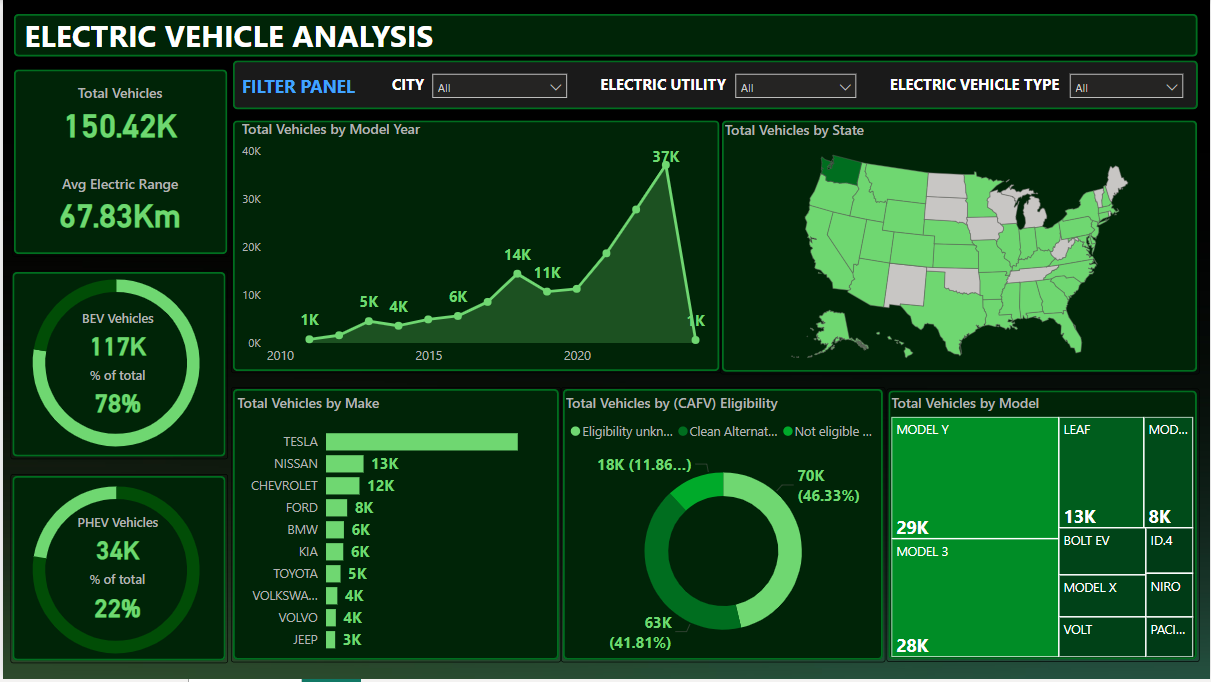

Layout of this report page (visuals, bound fields, positions):
{"tool":"powerbi","page":{"name":"Page 1","canvas":[1280,720],"ordinal":0},"visuals":[{"type":"shape","box":[9.7,12.9,1259.6,49.9],"z":0},{"type":"textbox","box":[17.7,9.7,476.8,61.2],"z":1000},{"type":"shape","box":[10.1,70.9,230.9,200.5],"z":2000},{"type":"card","title":"Total Vehicles","fields":{"Values":["Electric_Vehicle_Population_Data.Total Vehicles"]},"box":[24.3,87.1,200.5,64.8],"z":3000},{"type":"card","title":"Avg Electric Range","fields":{"Values":["Electric_Vehicle_Population_Data.Avg Range"]},"box":[23.8,184.7,200.5,63.5],"z":4000},{"type":"shape","box":[8,286.3,230.6,200.4],"z":5000},{"type":"shape","box":[8,502.6,230.6,200.4],"z":6000},{"type":"donutChart","fields":{"Category":["Electric_Vehicle_Population_Data.Electric Vehicle Type"],"Y":["Electric_Vehicle_Population_Data.Total Vehicles"]},"box":[0,269,240,231.9],"z":7000},{"type":"card","title":"BEV Vehicles","fields":{"Values":["Electric_Vehicle_Population_Data.BEV Vehicles"]},"box":[35.4,327.3,173,58.4],"z":8000},{"type":"card","title":"% of total","fields":{"Values":["Electric_Vehicle_Population_Data.% of BEV"]},"box":[35.4,387.8,173,58.4],"z":9000},{"type":"donutChart","fields":{"Category":["Electric_Vehicle_Population_Data.Electric Vehicle Type"],"Y":["Electric_Vehicle_Population_Data.Total Vehicles"]},"box":[0,488.1,240,231.9],"z":10000},{"type":"card","title":"PHEV Vehicles","fields":{"Values":["Electric_Vehicle_Population_Data.PHEV Vehicles"]},"box":[35.4,544.1,173,58.4],"z":11000},{"type":"card","title":"% of total","fields":{"Values":["Electric_Vehicle_Population_Data.% of PHEV"]},"box":[35.4,604,172.4,59.6],"z":12000},{"type":"shape","box":[241.6,62.8,1027.7,56.4],"z":13000},{"type":"shape","box":[241.6,125.6,520,270],"z":14000},{"type":"areaChart","fields":{"Category":["Electric_Vehicle_Population_Data.Model Year"],"Y":["Electric_Vehicle_Population_Data.Total Vehicles"]},"box":[248.1,125.1,506.6,271],"z":15000},{"type":"shape","box":[760.9,125.1,508.7,271],"z":16000},{"type":"shapeMap","fields":{"Category":["Electric_Vehicle_Population_Data.State"],"Value":["Electric_Vehicle_Population_Data.Total Vehicles"]},"box":[760.9,127.2,508.7,268.9],"z":17000},{"type":"shape","box":[241.8,410.7,350.2,291.9],"z":18000},{"type":"barChart","fields":{"Category":["Electric_Vehicle_Population_Data.Make"],"Y":["Electric_Vehicle_Population_Data.Total Vehicles"]},"box":[243.9,416.9,344,285.6],"z":19000},{"type":"shape","box":[592.1,410.7,344,291.9],"z":20000},{"type":"shape","box":[937.5,412.4,331.8,289.9],"z":21000},{"type":"donutChart","title":"Total Vehicles by (CAFV) Eligibility","fields":{"Y":["Electric_Vehicle_Population_Data.Total Vehicles"],"Category":["Electric_Vehicle_Population_Data.Clean Alternative Fuel Vehicle (CAFV) Eligibility"]},"box":[592.1,416.9,344,285.6],"z":22000},{"type":"treemap","fields":{"Group":["Electric_Vehicle_Population_Data.Model"],"Values":["Electric_Vehicle_Population_Data.Total Vehicles"]},"box":[937.5,417.2,330.2,285.1],"z":23000},{"type":"textbox","box":[248.1,72.9,151.1,35],"z":24000},{"type":"textbox","box":[406.7,72.5,58,35.4],"z":25000},{"type":"textbox","box":[935.9,72.5,223.9,35.4],"z":26000},{"type":"textbox","box":[628.2,72.5,169.1,35.4],"z":27000},{"type":"slicer","fields":{"Values":["Electric_Vehicle_Population_Data.City"]},"box":[445.4,67.7,162.7,46.7],"z":27001},{"type":"slicer","fields":{"Values":["Electric_Vehicle_Population_Data.Electric Utility"]},"box":[766.7,67.7,148.2,46.7],"z":27003},{"type":"slicer","fields":{"Values":["Electric_Vehicle_Population_Data.Electric Vehicle Type"]},"box":[1121.1,67.7,140.1,46.7],"z":27004}]}

Visuals, with their boxes in screenshot pixels (x1, y1, x2, y2), scaled from the page's 1280x720 canvas onto the 1211x682 screenshot:
shape: box(9, 12, 1201, 59)
textbox: box(17, 9, 468, 67)
shape: box(10, 67, 228, 257)
"Total Vehicles" card: box(23, 83, 213, 144)
"Avg Electric Range" card: box(23, 175, 212, 235)
shape: box(8, 271, 226, 461)
shape: box(8, 476, 226, 666)
donutChart - Electric_Vehicle_Population_Data.Electric Vehicle Type x Electric_Vehicle_Population_Data.Total Vehicles: box(0, 255, 227, 474)
"BEV Vehicles" card: box(33, 310, 197, 365)
"% of total" card: box(33, 367, 197, 423)
donutChart - Electric_Vehicle_Population_Data.Electric Vehicle Type x Electric_Vehicle_Population_Data.Total Vehicles: box(0, 462, 227, 681)
"PHEV Vehicles" card: box(33, 515, 197, 571)
"% of total" card: box(33, 572, 197, 629)
shape: box(229, 59, 1201, 113)
shape: box(229, 119, 721, 375)
areaChart - Electric_Vehicle_Population_Data.Model Year x Electric_Vehicle_Population_Data.Total Vehicles: box(235, 118, 714, 375)
shape: box(720, 118, 1201, 375)
shapeMap - Electric_Vehicle_Population_Data.State x Electric_Vehicle_Population_Data.Total Vehicles: box(720, 120, 1201, 375)
shape: box(229, 389, 560, 666)
barChart - Electric_Vehicle_Population_Data.Make x Electric_Vehicle_Population_Data.Total Vehicles: box(231, 395, 556, 665)
shape: box(560, 389, 886, 666)
shape: box(887, 391, 1201, 665)
"Total Vehicles by (CAFV) Eligibility" donutChart: box(560, 395, 886, 665)
treemap - Electric_Vehicle_Population_Data.Model x Electric_Vehicle_Population_Data.Total Vehicles: box(887, 395, 1199, 665)
textbox: box(235, 69, 378, 102)
textbox: box(385, 69, 440, 102)
textbox: box(885, 69, 1097, 102)
textbox: box(594, 69, 754, 102)
slicer - Electric_Vehicle_Population_Data.City: box(421, 64, 575, 108)
slicer - Electric_Vehicle_Population_Data.Electric Utility: box(725, 64, 866, 108)
slicer - Electric_Vehicle_Population_Data.Electric Vehicle Type: box(1061, 64, 1193, 108)
